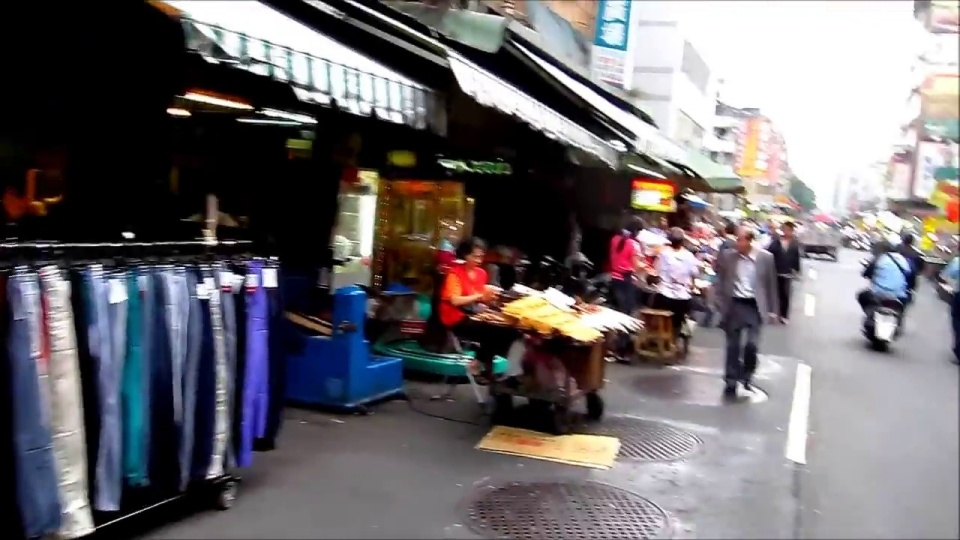person_head: (454, 233, 484, 271), (615, 216, 642, 252), (735, 225, 752, 254), (667, 225, 684, 252), (885, 231, 902, 254), (869, 233, 885, 255), (780, 220, 795, 237), (900, 228, 913, 247), (723, 223, 736, 239)
person_vbox: (709, 225, 777, 405), (439, 234, 504, 386), (855, 229, 919, 341), (603, 217, 651, 362), (651, 226, 704, 349), (763, 219, 802, 327), (936, 240, 960, 365), (897, 226, 927, 289), (714, 223, 735, 252)
